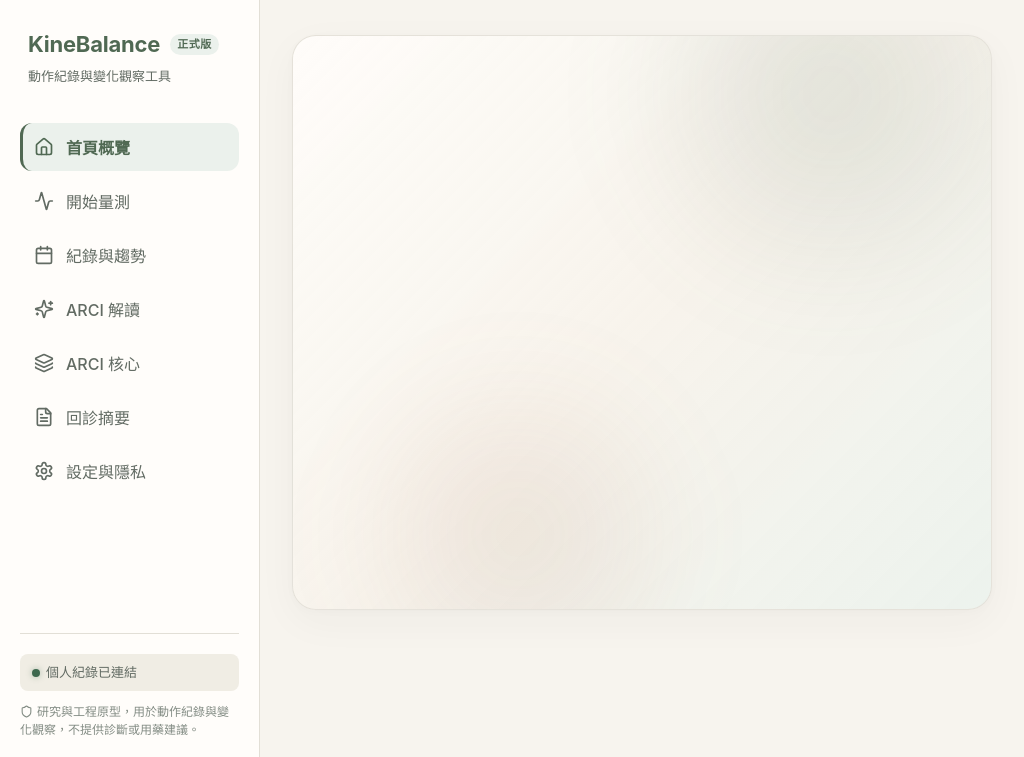
Test: ARCI Technology Components & Showcase › navigates to ARCI tab in KineBalanceApp from navigation
The image size is (1024, 757).
Click the button "ARCI 核心" at (130, 363), box [20,339,239,387]
(page scrolled)
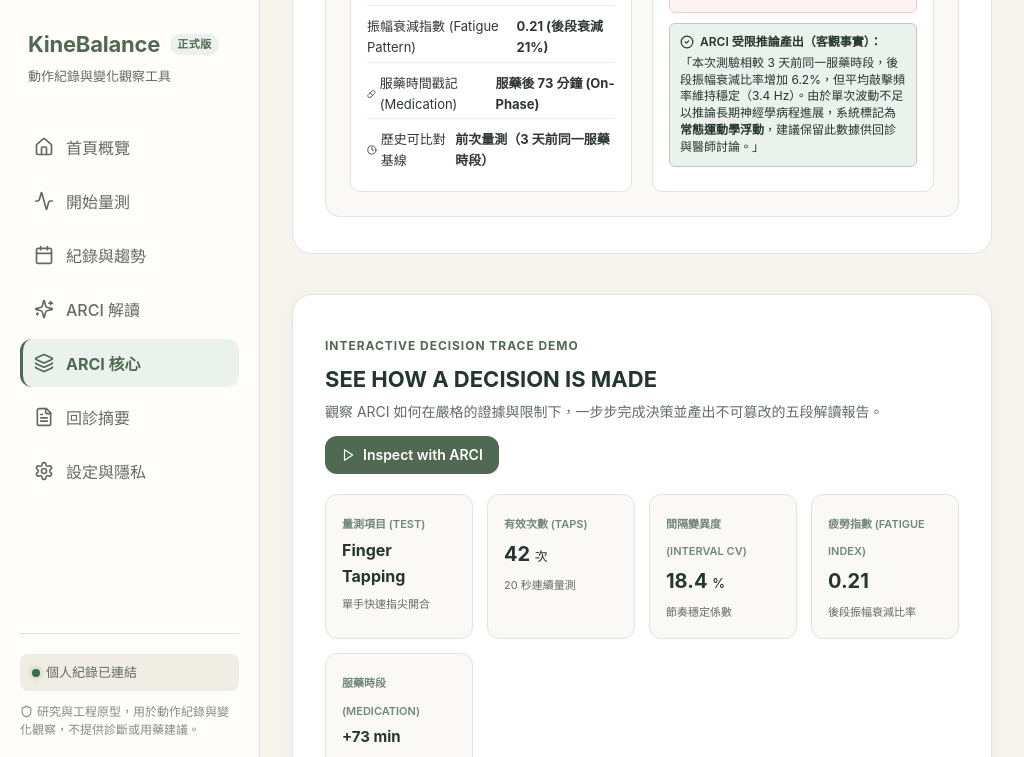
Check: the heading "SEE HOW A DECISION IS MADE" is shown, box [325,366,657,392]
